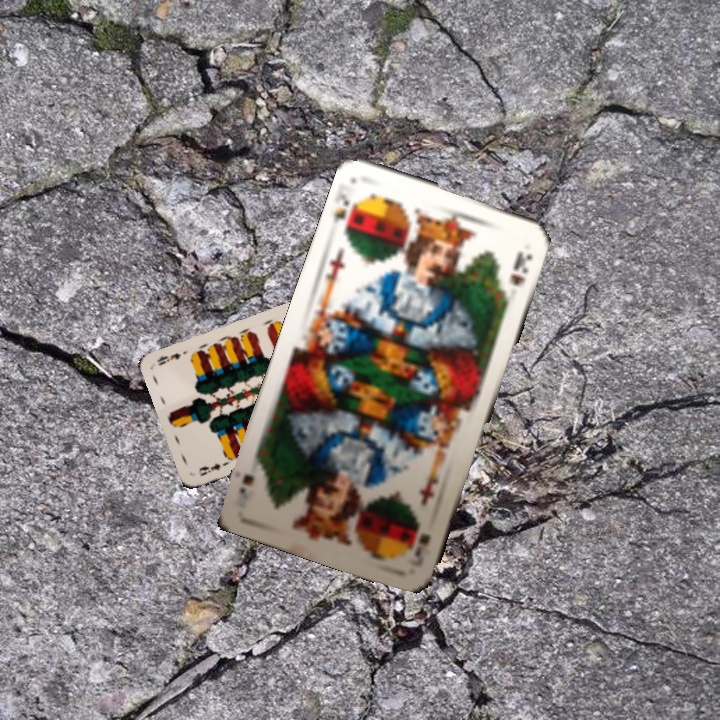E9: (194, 455, 232, 479)
SK: (329, 190, 362, 238), (404, 529, 433, 565)
